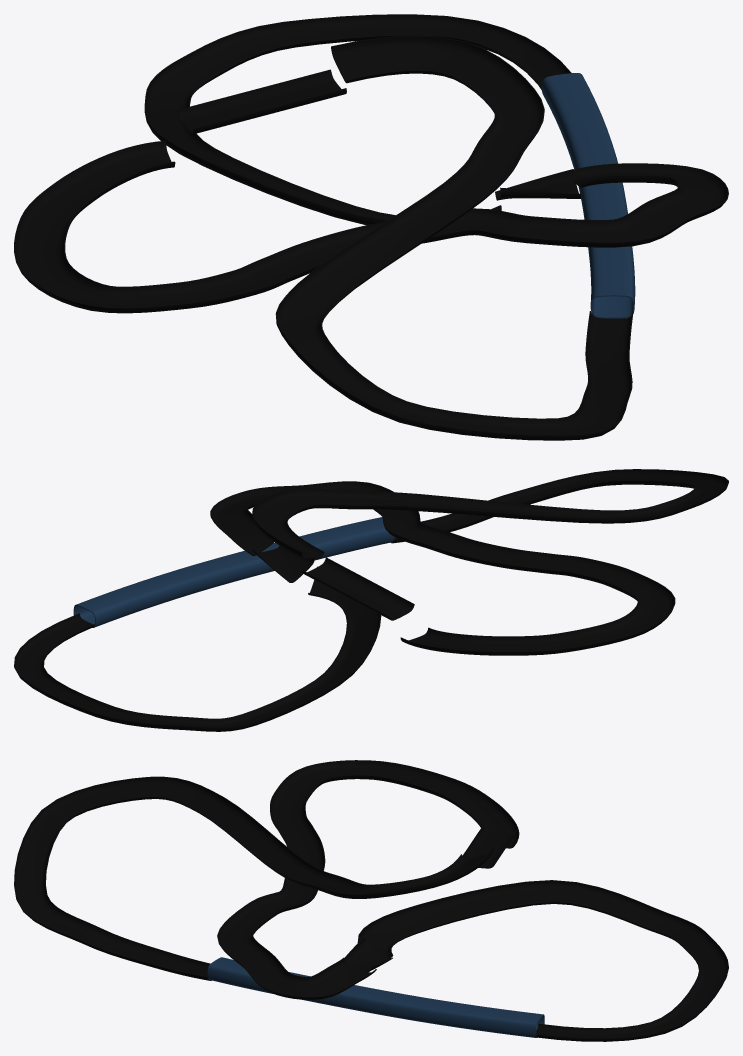
Rendered from Track2.FBX.
3 views of the same model, one above another, from view 1: azimuth 30°, elevation 25°; view 2: azimuth 150°, elevation 25°; view 3: azimuth 270°, elevation 25° (orthographic). The views are drawn at different scales.
Parts seen in each view (by area): view 1: Loft005, Loft001, Loft003, Loft007, Loft006, Loft002; view 2: Loft001, Loft005, Loft003, Loft007, Loft006, Loft002; view 3: Loft005, Loft001, Loft003, Loft007, Loft006, Loft002.
Boxes of the visible parts, x1,y1,x2,y2 form: Loft005: (275, 36, 633, 440); Loft001: (14, 140, 728, 313); Loft003: (144, 14, 571, 225); Loft007: (541, 73, 635, 318); Loft006: (177, 69, 346, 134); Loft002: (495, 169, 581, 200); Loft001: (210, 481, 675, 655); Loft005: (252, 469, 728, 559); Loft003: (14, 566, 381, 731); Loft007: (73, 517, 395, 627); Loft006: (301, 557, 414, 620); Loft002: (252, 546, 314, 582); Loft005: (14, 776, 494, 980); Loft001: (217, 760, 519, 999); Loft003: (357, 880, 728, 1041); Loft007: (207, 957, 544, 1037); Loft006: (462, 825, 517, 868); Loft002: (344, 937, 392, 971).
Size of the model in its own units: 1660 by 358 by 2139.
